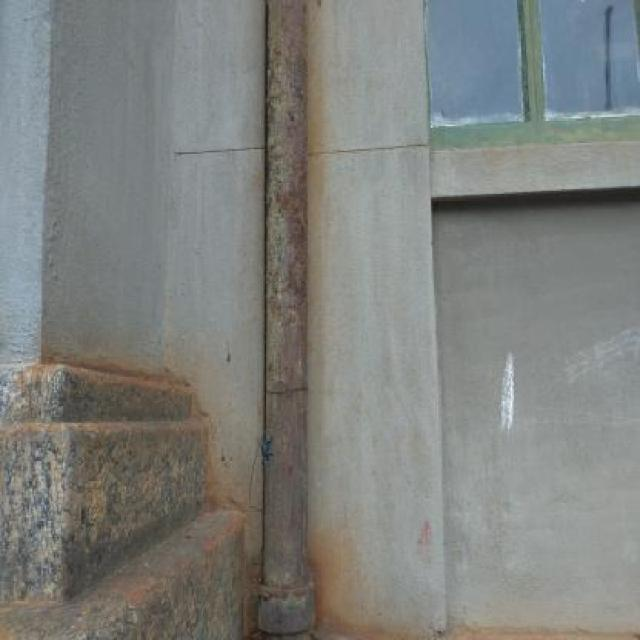gas: (254, 0, 311, 626)
